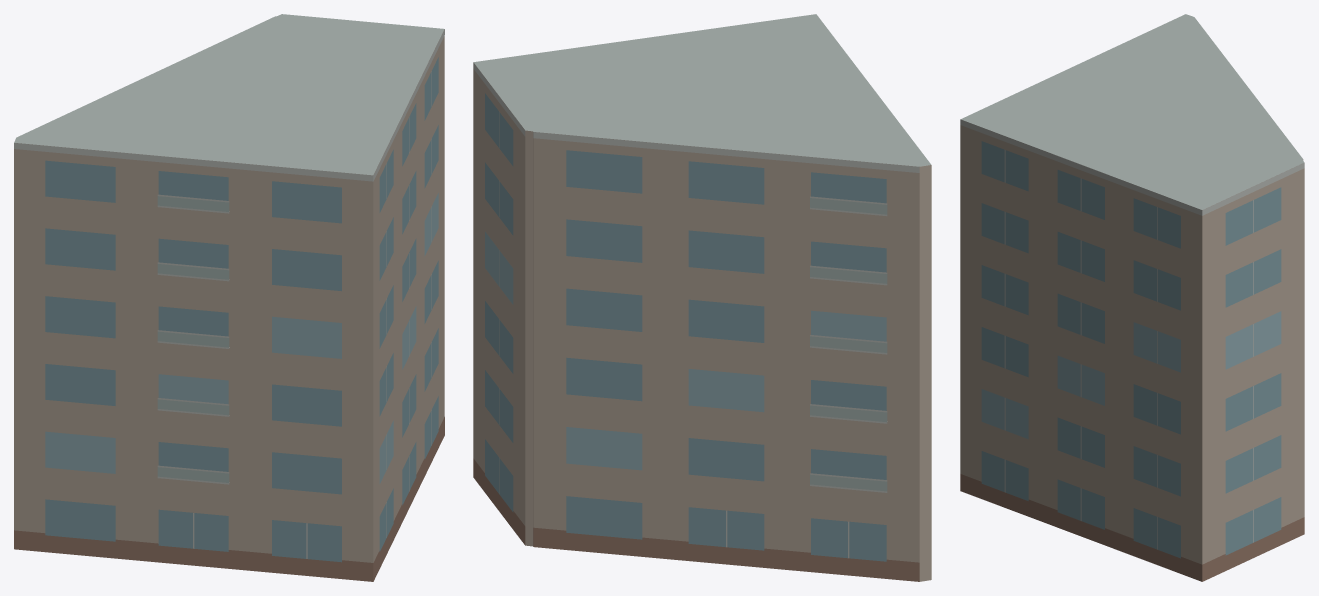
The model's file is survey-upis-33012387.glb.
3 views of the same model, side by side, from view 1: azimuth 30°, elevation 25°; view 2: azimuth 150°, elevation 25°; view 3: azimuth 270°, elevation 25° (orthographic). The views are drawn at different scales.
Parts seen in each view (by area): view 1: survey-upis-33012387.tmp; view 2: survey-upis-33012387.tmp; view 3: survey-upis-33012387.tmp.
Part boxes in pixels (box(x1,y1,x2,y2)): survey-upis-33012387.tmp: box(14, 14, 444, 581); survey-upis-33012387.tmp: box(473, 14, 931, 581); survey-upis-33012387.tmp: box(960, 14, 1304, 581).
Size of the model in its own units: 18 by 15.9 by 13.35.
